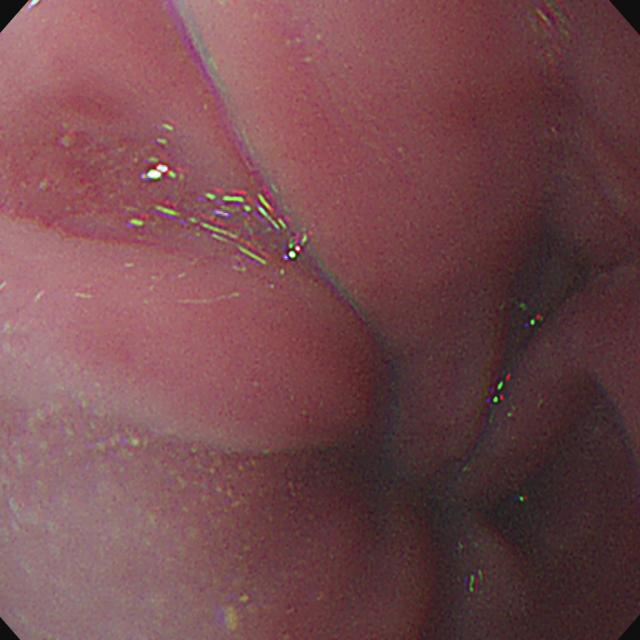U: (197, 214, 270, 268), (204, 189, 291, 233), (282, 230, 313, 265), (141, 156, 176, 182), (153, 201, 182, 222), (125, 212, 148, 229)
